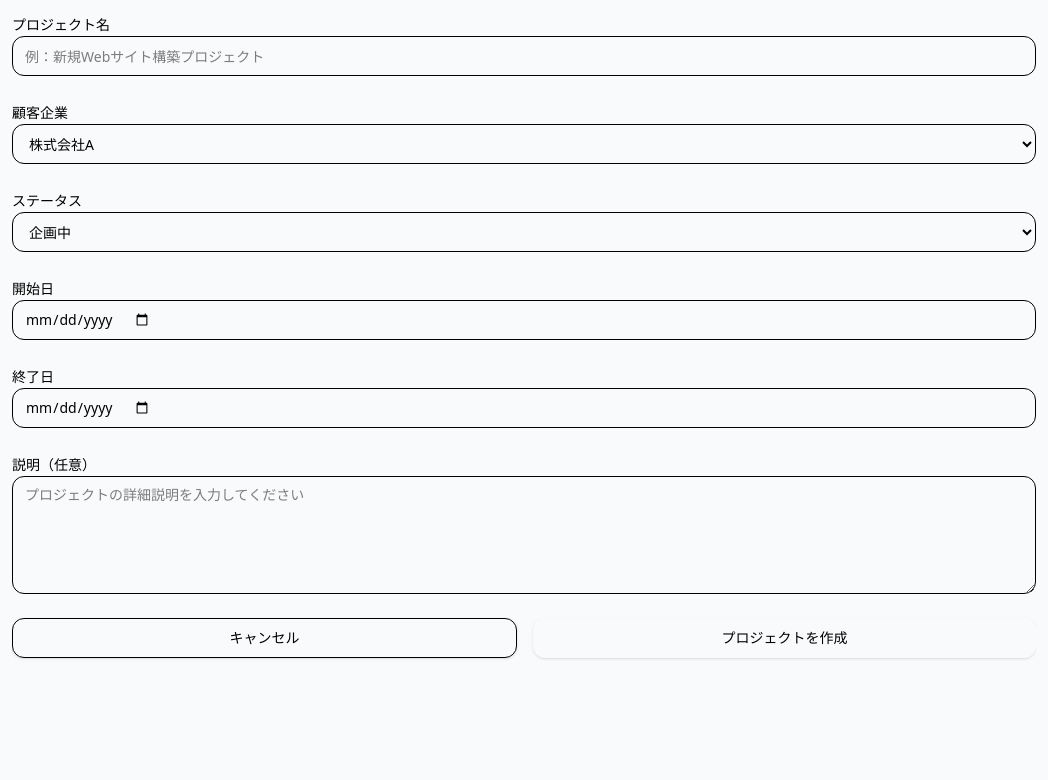
Test: ProjectForm › フォーム送信 › 送信エラー時にエラーメッセージが表示される
The width and height of the screenshot is (1048, 780).
In the field labelled "プロジェクト名": {"x": 524, "y": 56} [12,36,1036,76], type "テストプロジェクト"
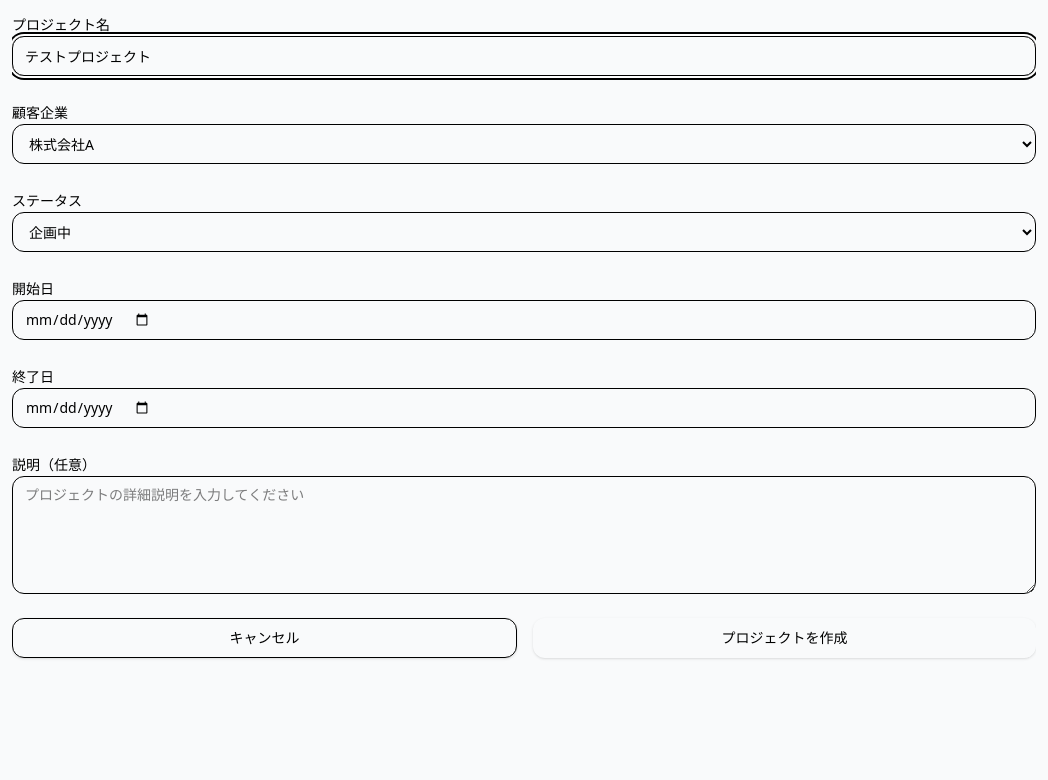
Select "株式会社A" in the dropdown labelled "顧客企業": {"x": 524, "y": 144} [12,124,1036,164]
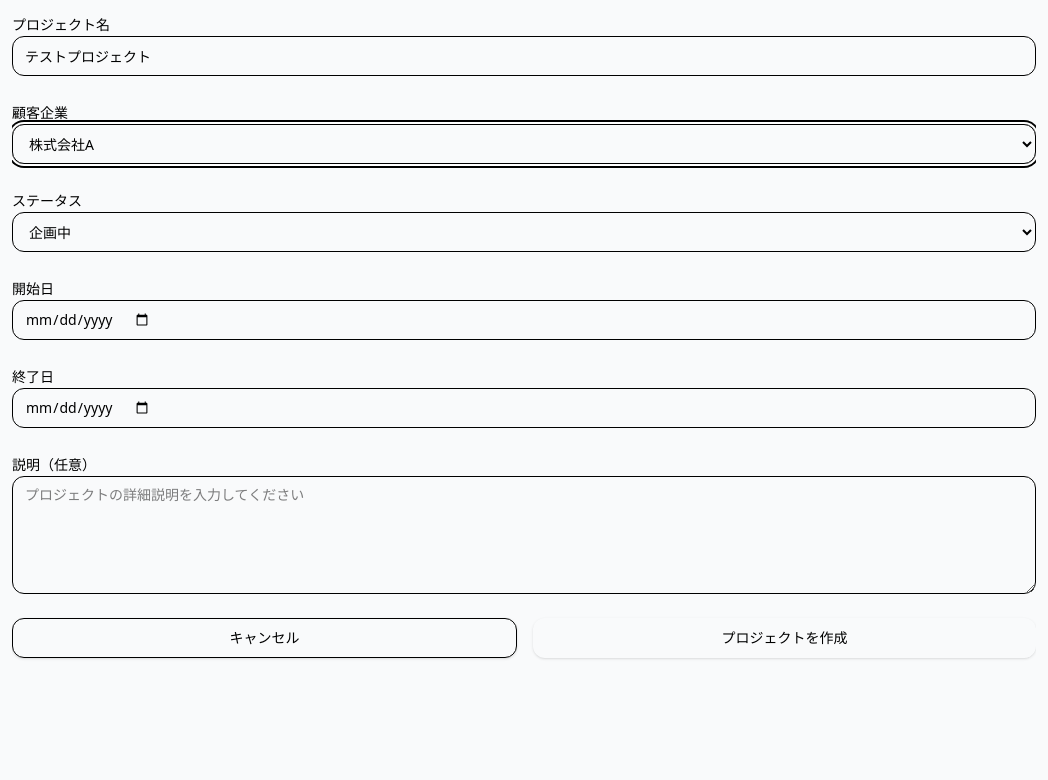
Click the button "プロジェクトを作成": {"x": 784, "y": 638} [533,618,1036,658]
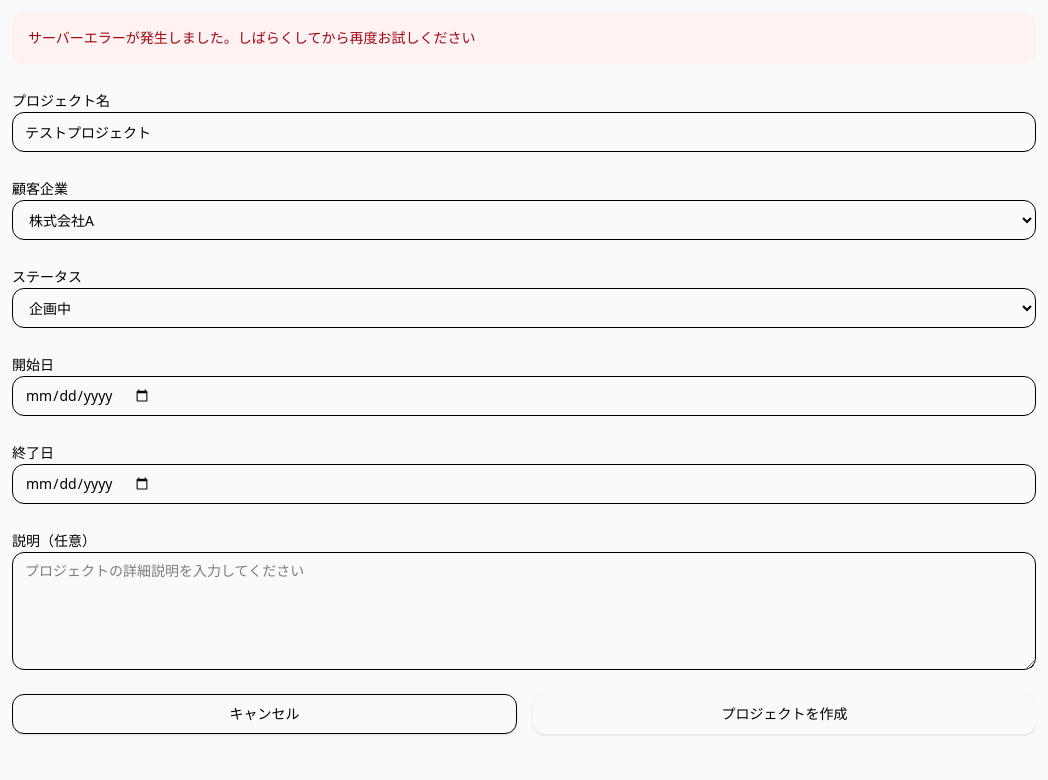
Check: the message reads "サーバーエラーが発生しました。しばらくしてから再度お試しください", box [28,28,476,47]
